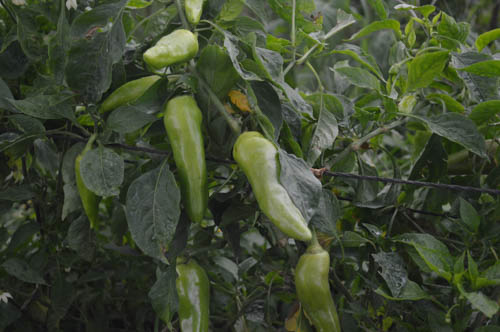ChiliPepper: (235, 130, 307, 241), (168, 94, 207, 217), (295, 252, 338, 326), (170, 261, 209, 327), (71, 155, 103, 223), (138, 34, 200, 64), (100, 73, 160, 104)
